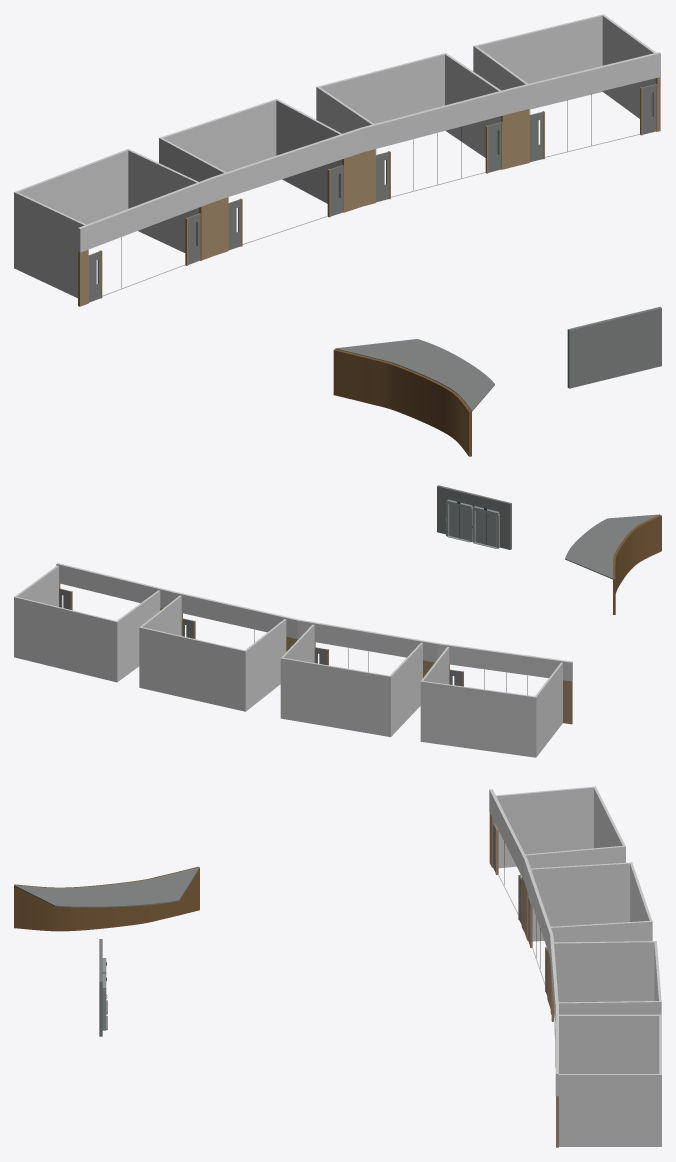
The model's file is SM_L1_Rooms_Solid_24cdbc6e94_0.fbx.
3 renders of one model, top to bottom at view 1: azimuth 30°, elevation 25°; view 2: azimuth 150°, elevation 25°; view 3: azimuth 270°, elevation 25°, orthographic. The views are drawn at different scales.
Visible parts, largest first — view 1: SM_L1_Rooms_Solid_24cdbc6e94_0; view 2: SM_L1_Rooms_Solid_24cdbc6e94_0; view 3: SM_L1_Rooms_Solid_24cdbc6e94_0.
Boxes of the visible parts, x1,y1,x2,y2 form: SM_L1_Rooms_Solid_24cdbc6e94_0: [14, 14, 661, 456]; SM_L1_Rooms_Solid_24cdbc6e94_0: [14, 485, 661, 757]; SM_L1_Rooms_Solid_24cdbc6e94_0: [14, 786, 661, 1147].
Size of the model in its own units: 37.16 by 35.2 by 4.42.
